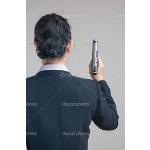Pistol: (91, 39, 99, 74)
